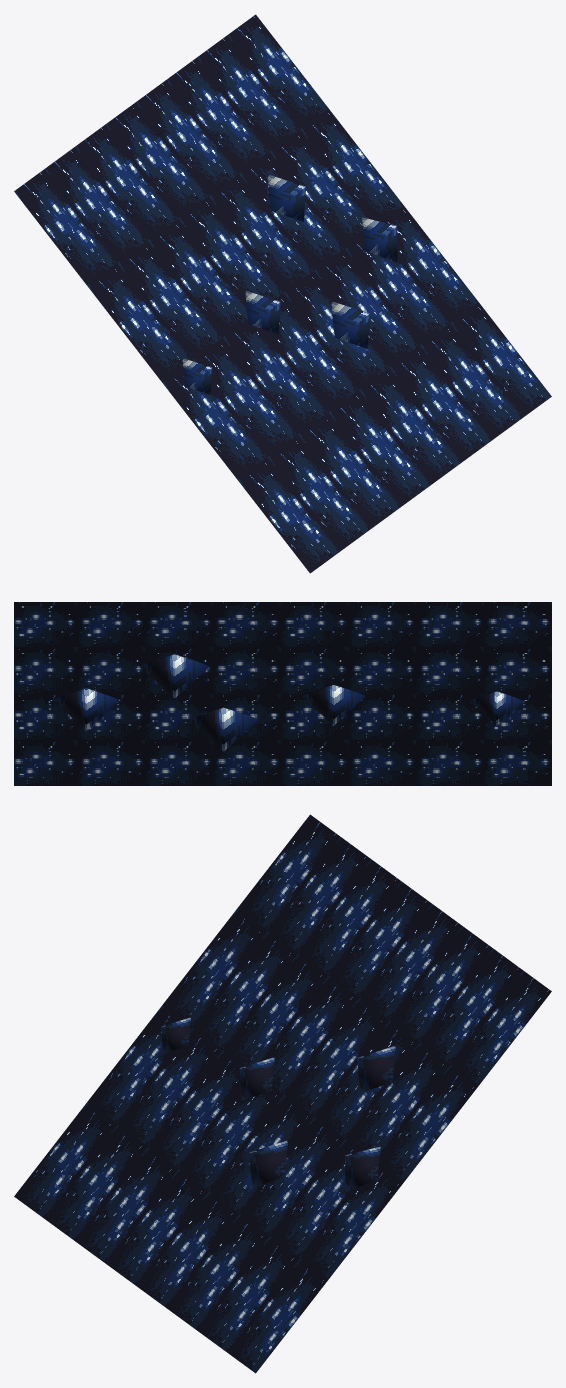
File: 3276IMIG05_02.gltf
The picture shows the model from 3 angles, top to bottom: view 1: azimuth 30°, elevation 25°; view 2: azimuth 150°, elevation 25°; view 3: azimuth 270°, elevation 25°; orthographic projection. The views are drawn at different scales.
Parts seen in each view (by area): view 1: 3276IMIG05_02; view 2: 3276IMIG05_02; view 3: 3276IMIG05_02.
Boxes of the visible parts, x1,y1,x2,y2 form: 3276IMIG05_02: (14,14,551,573); 3276IMIG05_02: (14,602,551,785); 3276IMIG05_02: (14,814,551,1373).
Bounding box in the file's own units: 1.97 × 1.14 × 1.8.
Materials: 2 (2 with a texture image).
